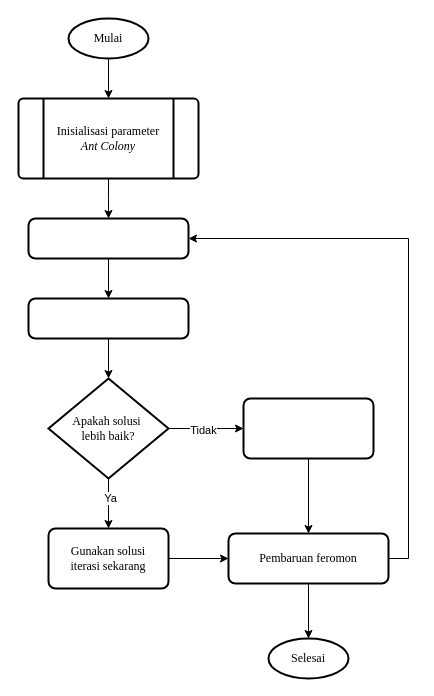
Some shapes in this 434 by 696 pixel diagram are drawn without their labels. The shapes that lost their labels are listed below. From the top down, each one's centre as x and y in pixels, then its label:
At [108,238]: "Bangkitkan vektor dx".
At [108,318]: "Evaluasi Solusi".
At [308,428]: "Gunakan solusi iterasi sebelumnya".
